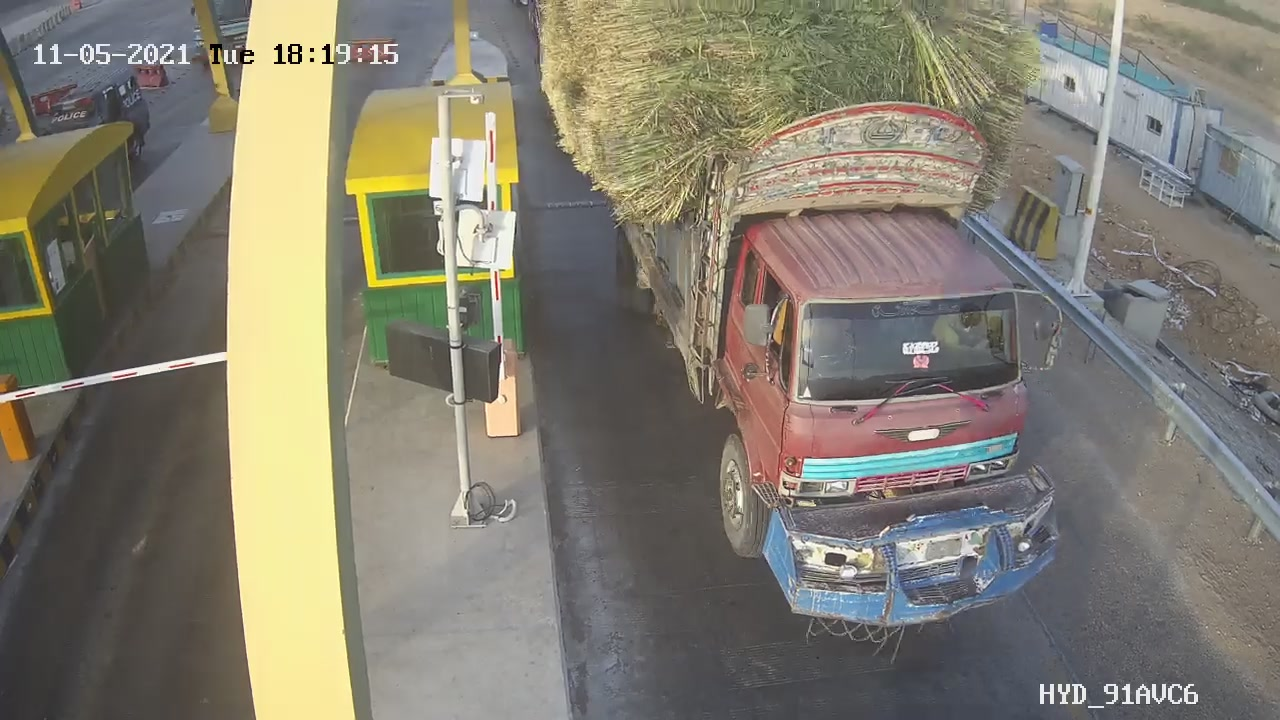F5: (580, 1, 1103, 636)
